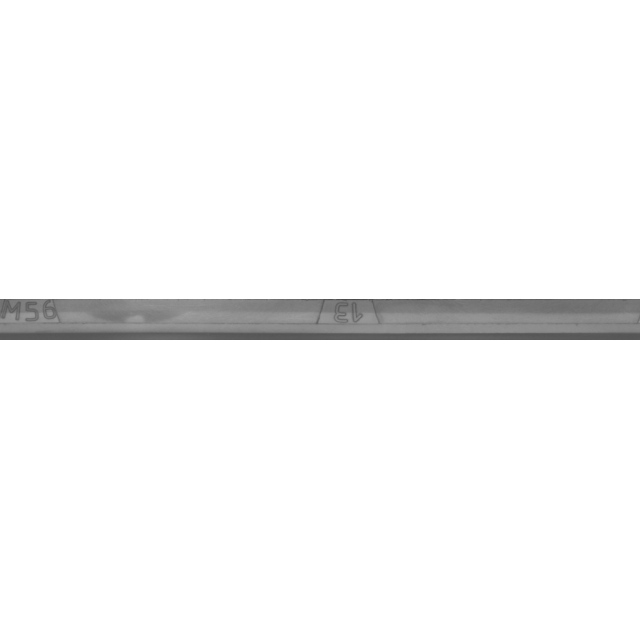mohao: (0, 270, 127, 370)
xuehao: (246, 270, 446, 370)
